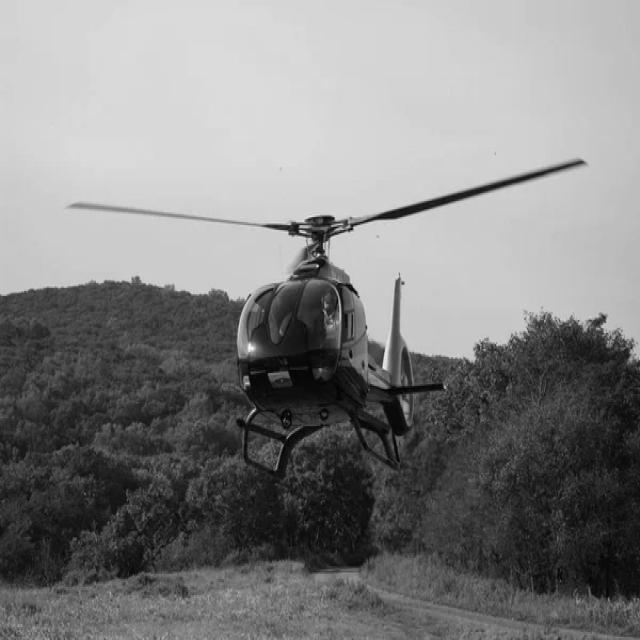Helicopter: (70, 159, 587, 478)
